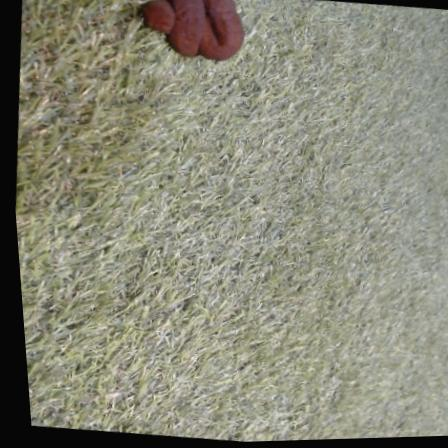dog-poop: (133, 0, 249, 67)
